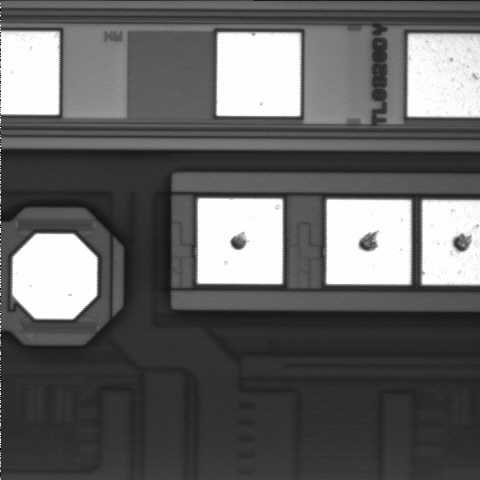pad: (198, 198, 283, 284), (13, 234, 97, 319), (327, 200, 411, 284), (217, 33, 300, 116)
